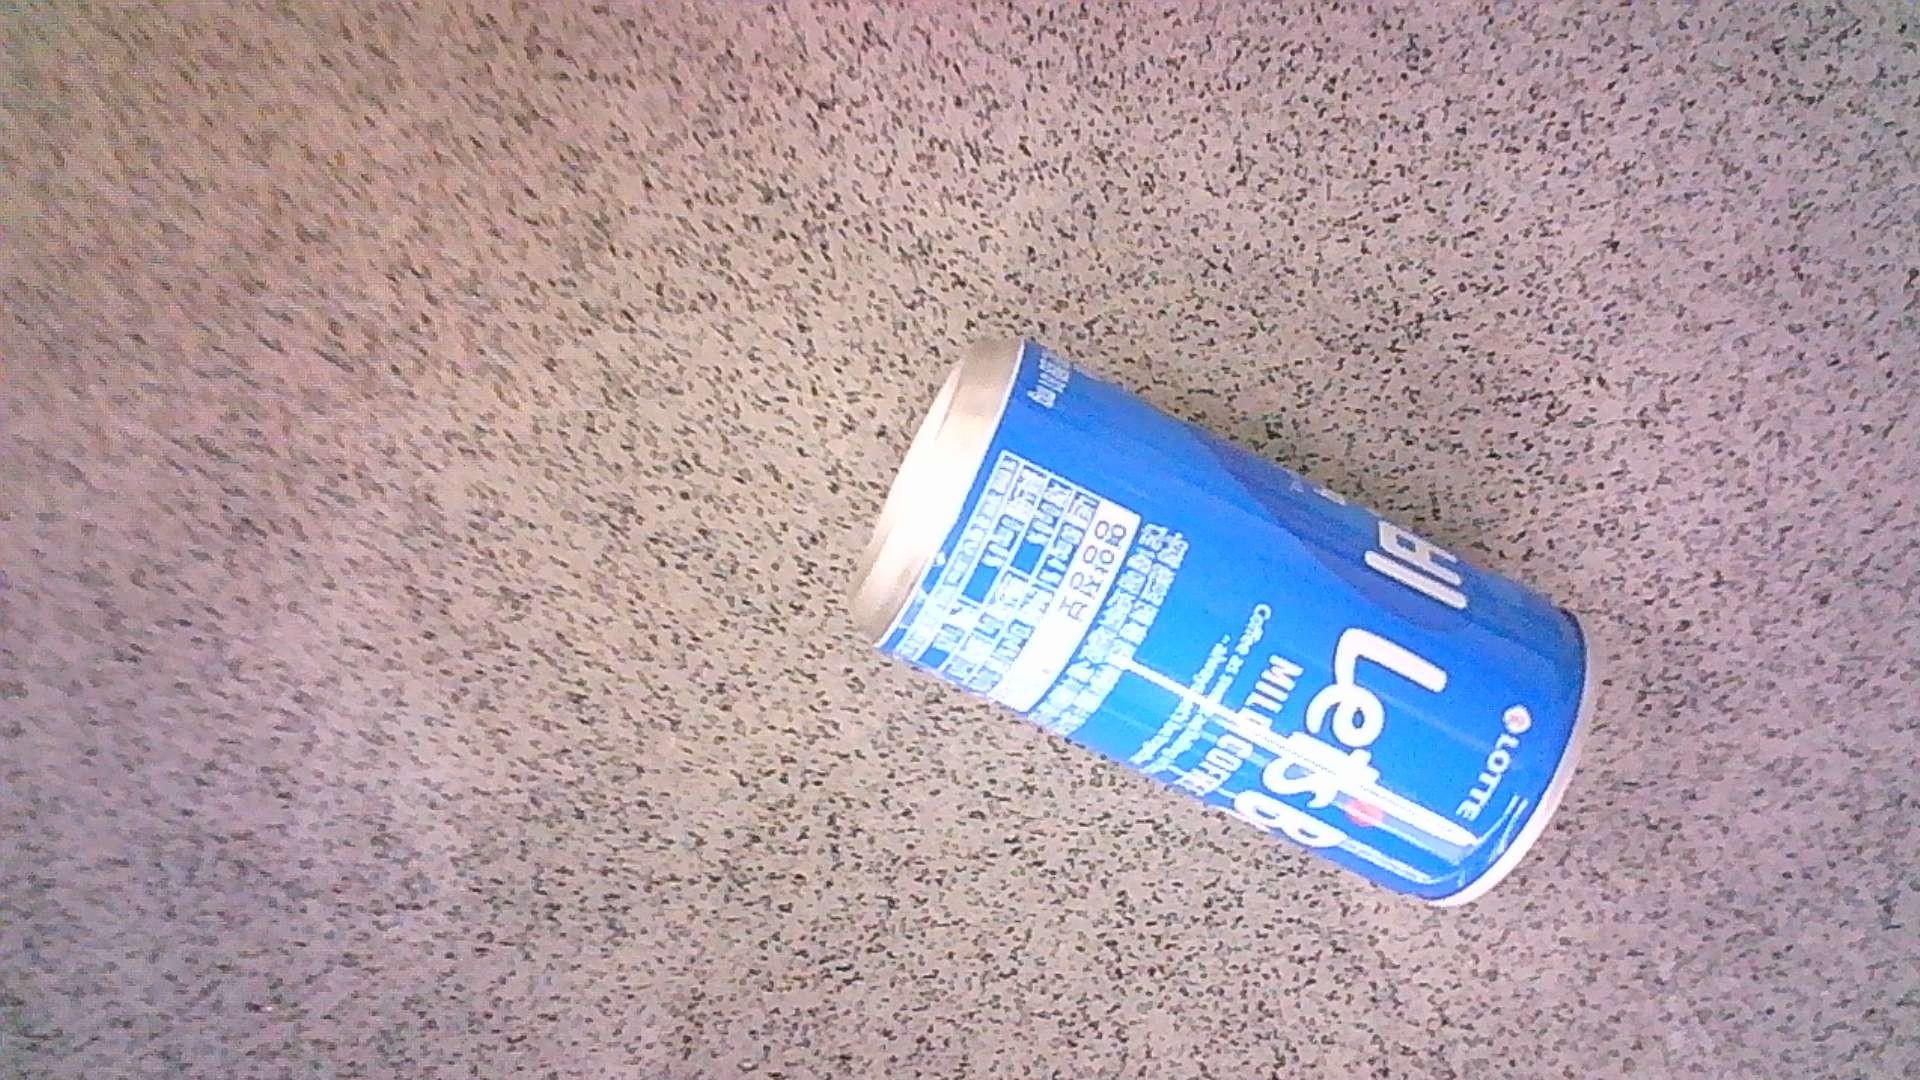letsbe: (847, 334, 1589, 909)
